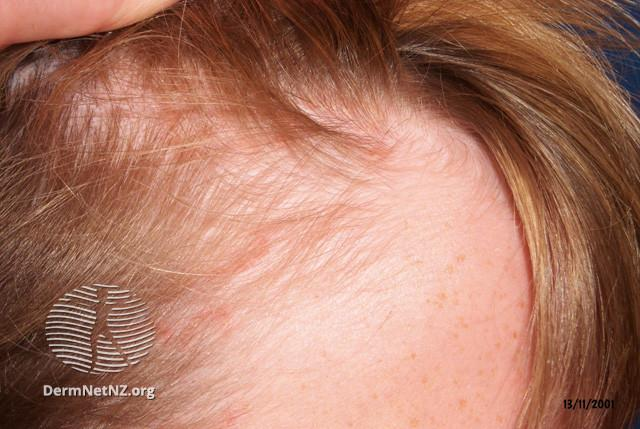Psoriasis: (86, 63, 525, 427)
